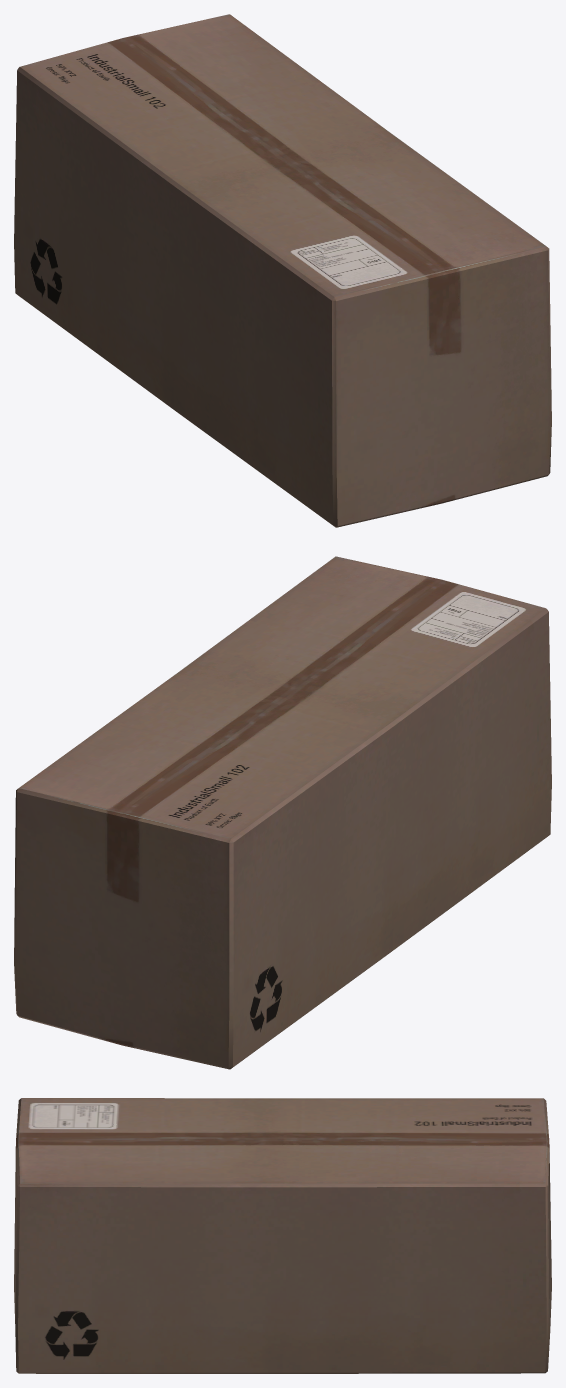
The model's file is BoxRectangularSmall.glb.
3 views of the same model, one above another, from view 1: azimuth 30°, elevation 25°; view 2: azimuth 150°, elevation 25°; view 3: azimuth 270°, elevation 25° (orthographic). The views are drawn at different scales.
Visible parts, largest first — view 1: BoxRectangularSmall; view 2: BoxRectangularSmall; view 3: BoxRectangularSmall.
Boxes of the visible parts, x1,y1,x2,y2 form: BoxRectangularSmall: [14, 14, 551, 527]; BoxRectangularSmall: [14, 556, 551, 1069]; BoxRectangularSmall: [14, 1098, 551, 1373].
Size of the model in its own units: 0.2375 by 0.2412 by 0.6048.
Materials: 1 (1 with a texture image).
